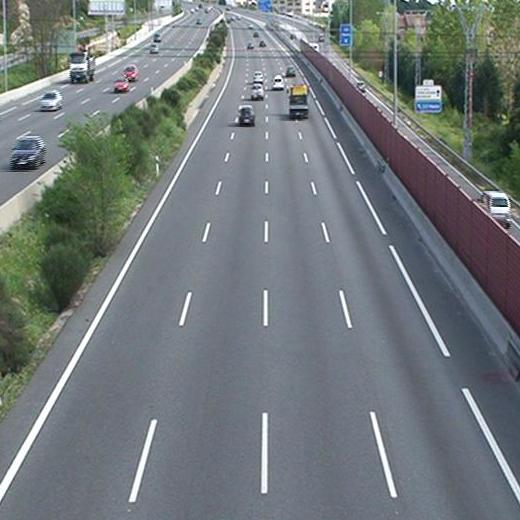car: (237, 106, 255, 127), (250, 82, 265, 102), (271, 74, 286, 89), (285, 64, 297, 77), (253, 69, 265, 82)
small-truck: (287, 85, 310, 118)
